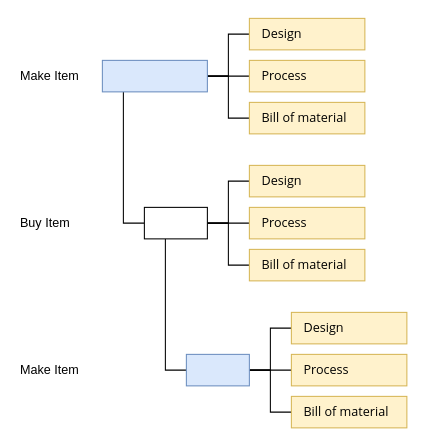
Image size: 425x446. Some labels were removed from this diagram. Each missing label, with the box of its shape:
Item 1: (101, 59, 207, 92)
Item 2: (143, 206, 207, 239)
Item 3: (185, 353, 249, 386)
